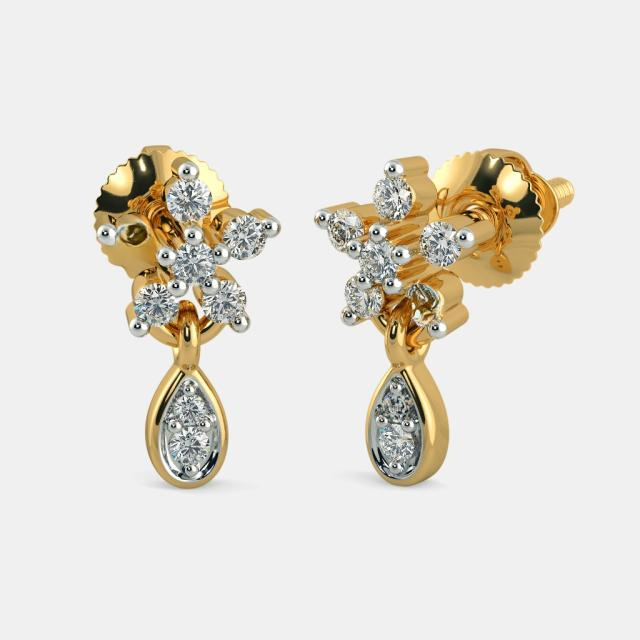missing gem: (401, 281, 440, 331), (377, 387, 412, 421)
